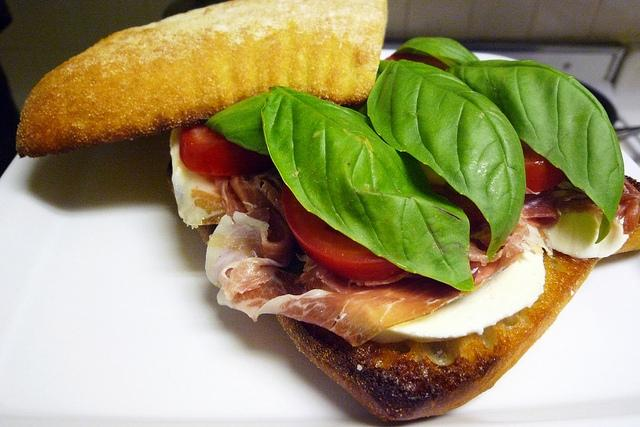tomato: (282, 185, 402, 284), (180, 124, 276, 175), (520, 139, 566, 192)
